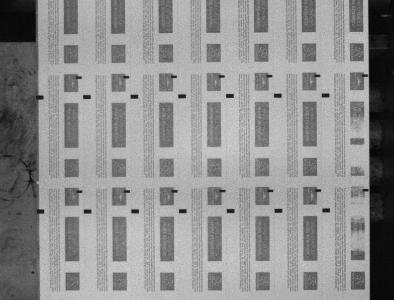qblock: (37, 209, 45, 214), (131, 94, 139, 99), (84, 209, 92, 214), (274, 93, 282, 98), (275, 208, 283, 213), (322, 208, 331, 212), (226, 94, 234, 98), (178, 94, 186, 98), (83, 95, 91, 99), (131, 209, 139, 213), (36, 95, 44, 99), (322, 93, 330, 97), (179, 209, 187, 213), (227, 209, 235, 213)
smallqblock: (123, 75, 130, 79), (267, 189, 274, 192), (76, 190, 83, 193), (363, 74, 369, 77), (124, 190, 130, 193), (172, 190, 178, 193), (316, 189, 322, 192), (220, 189, 226, 192), (315, 74, 321, 77), (267, 74, 273, 77), (219, 75, 225, 78), (171, 75, 177, 78), (76, 76, 82, 79), (363, 189, 369, 192)
